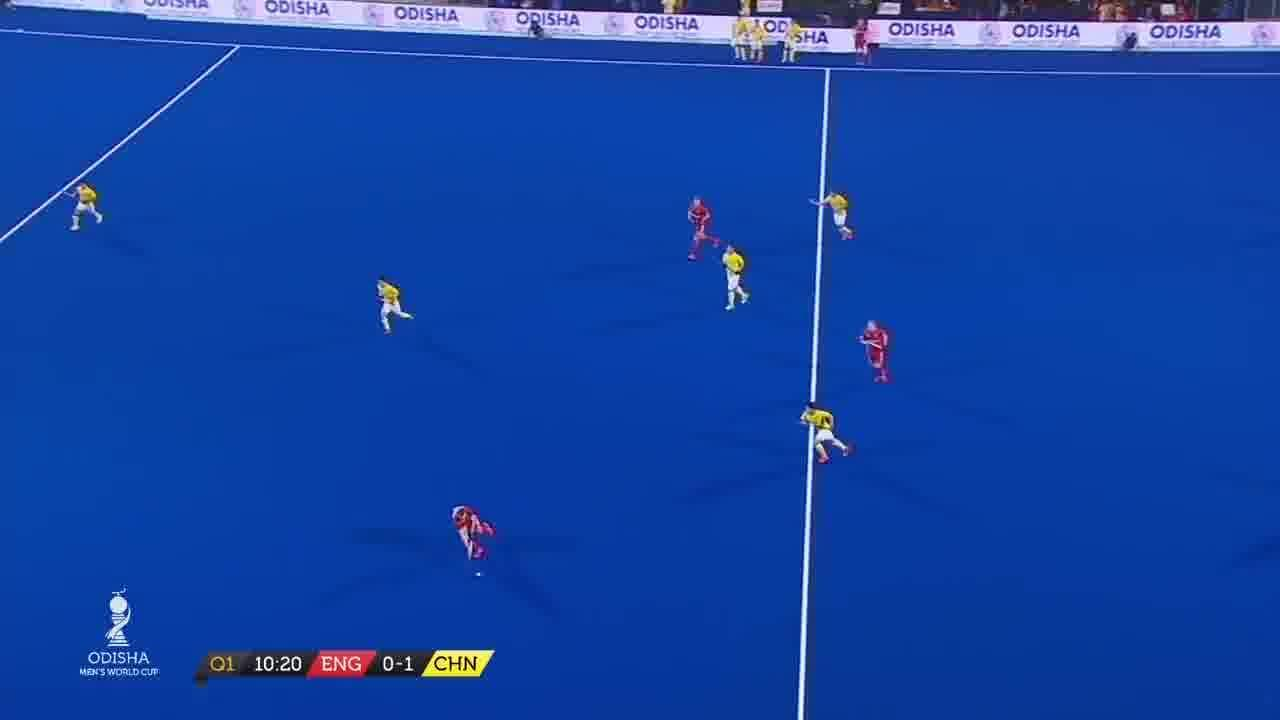ball: (466, 570, 494, 585)
